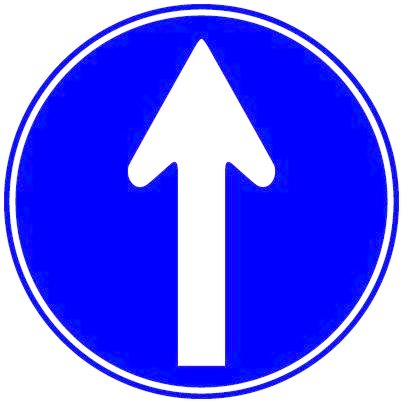Direction_sign: (2, 1, 402, 401)
